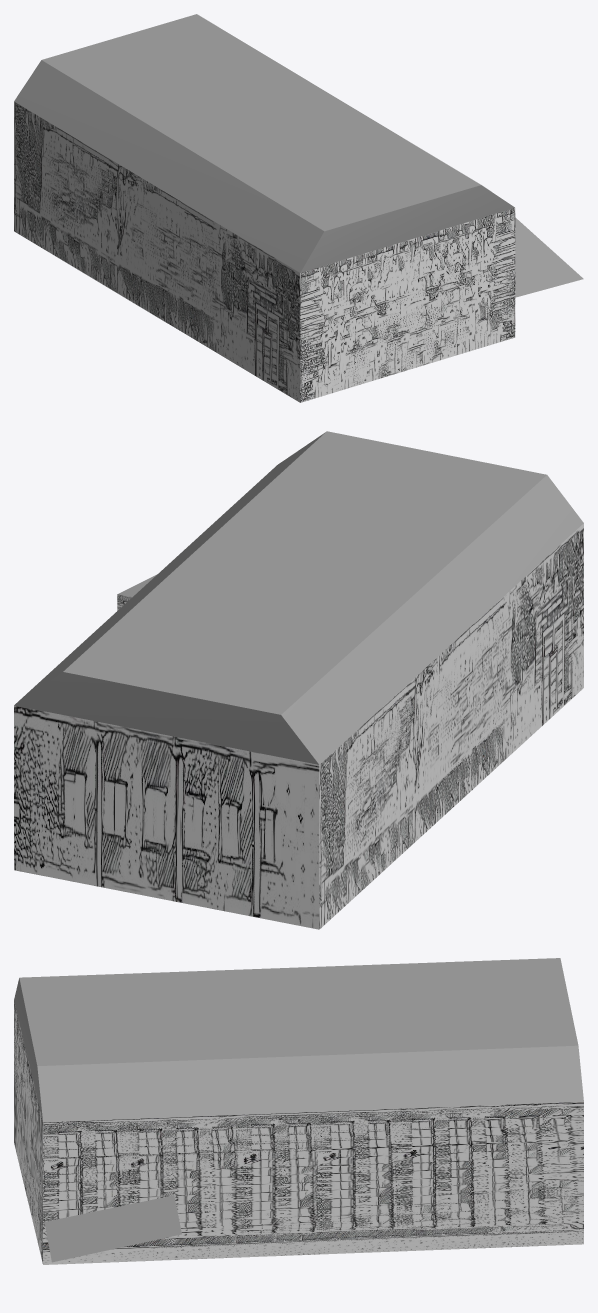
Rendered from Walter-Frenzel-Bau.gltf.
The picture shows the model from 3 angles, top to bottom: view 1: azimuth 30°, elevation 25°; view 2: azimuth 150°, elevation 25°; view 3: azimuth 270°, elevation 25°; orthographic projection. The views are drawn at different scales.
Parts seen in each view (by area): view 1: Dach.1; view 2: Dach.1; view 3: Dach.1.
Part boxes in pixels (x1,y1,x2,y2): Dach.1: (14,14,583,402); Dach.1: (14,431,583,929); Dach.1: (14,958,583,1264).
Bounding box in the file's own units: 30.12 × 13.85 × 39.83.
6 materials, 5 textured.
